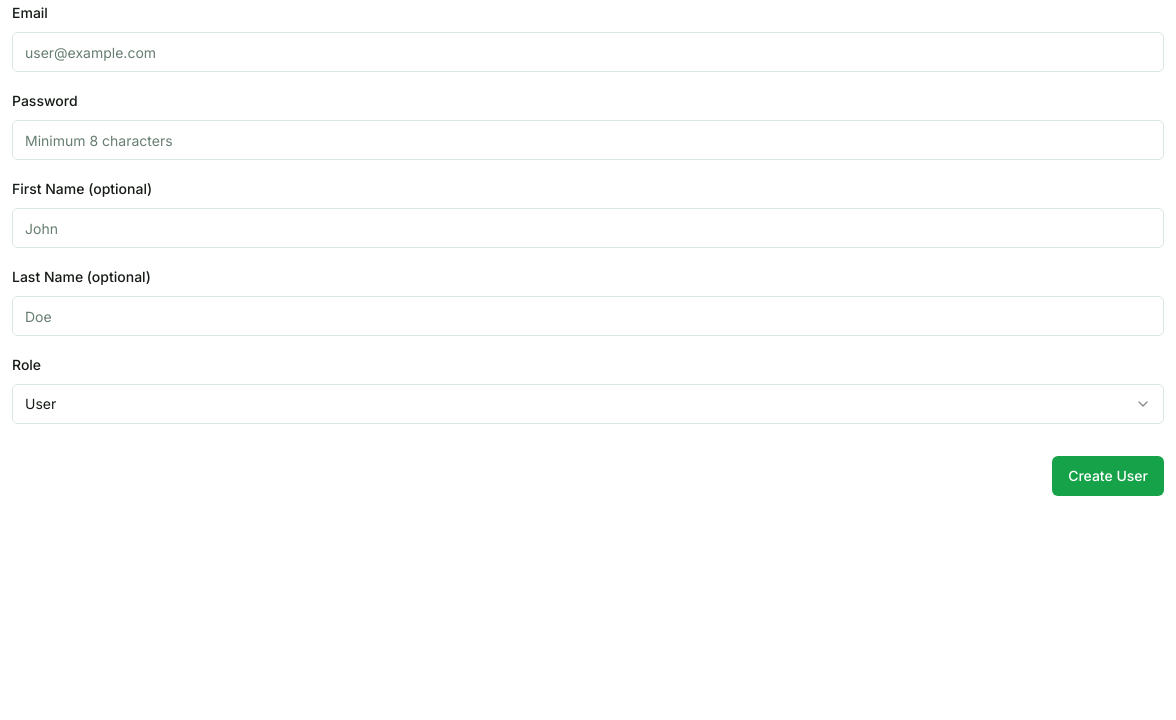
Scenario: UserForm › create mode: shows validation error for short password
Type "test@example.com" into the field with test id "user-email-input" at (588, 52), box [12,32,1164,72]
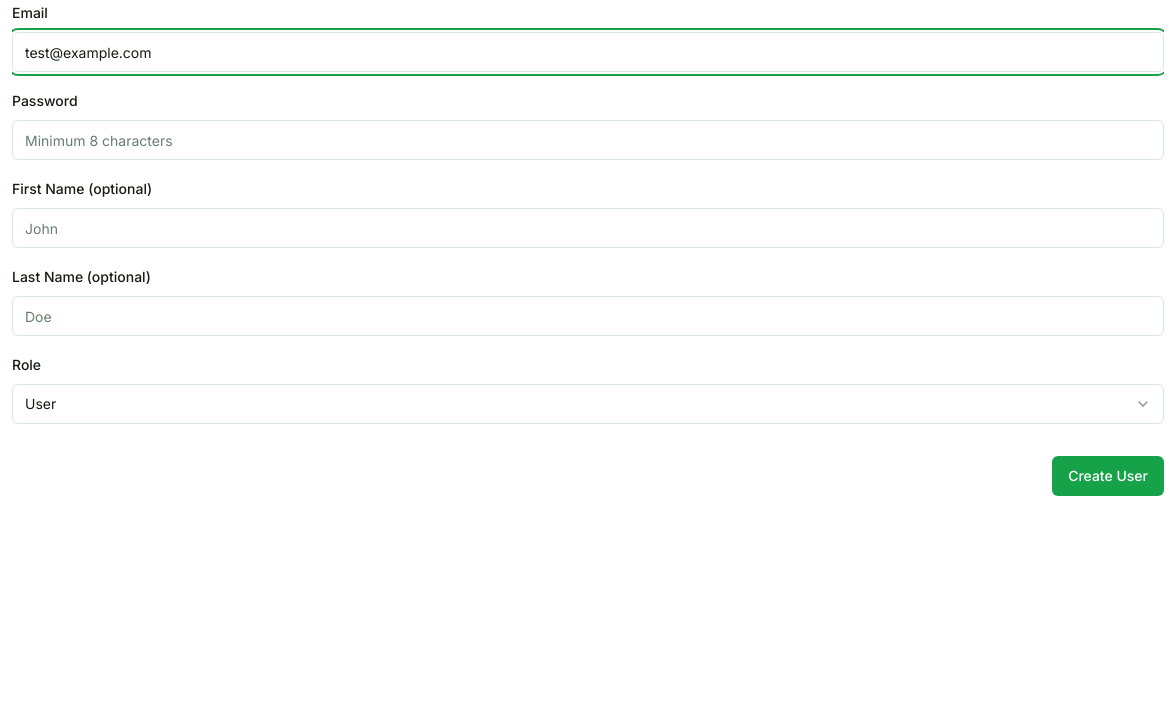
Type "short" into the password field with test id "user-password-input" at (588, 140), box [12,120,1164,160]
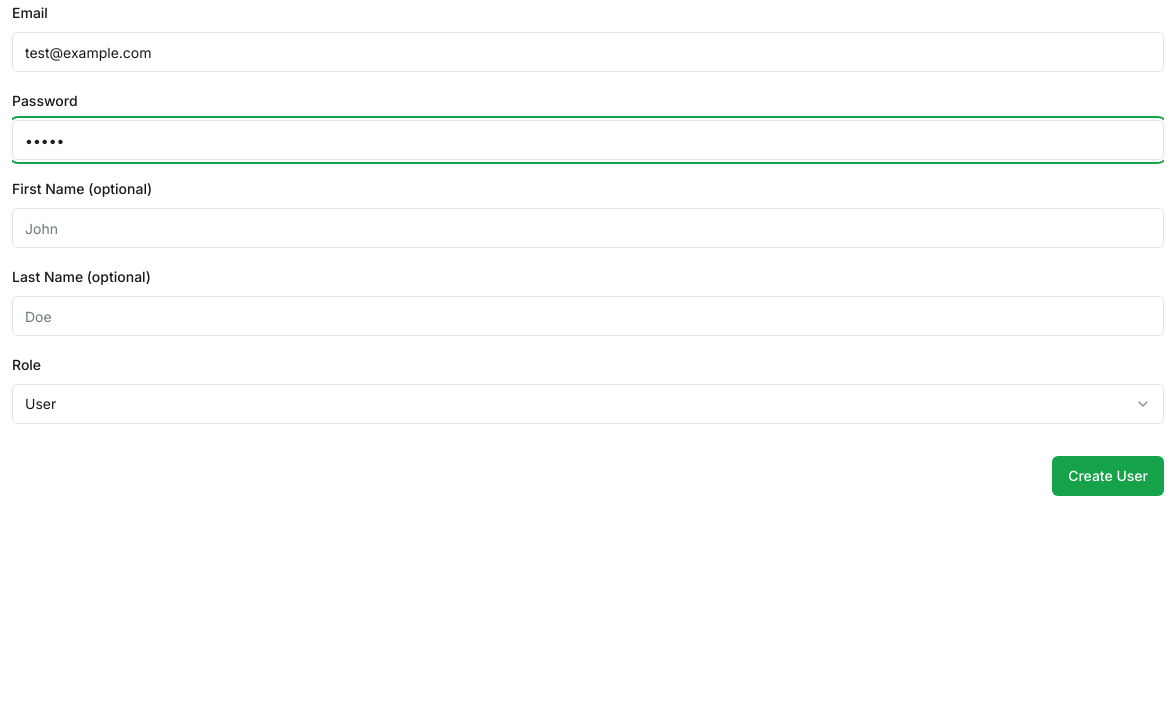
Click the button with test id "user-form-submit" at (1108, 476), box [1052,456,1164,496]
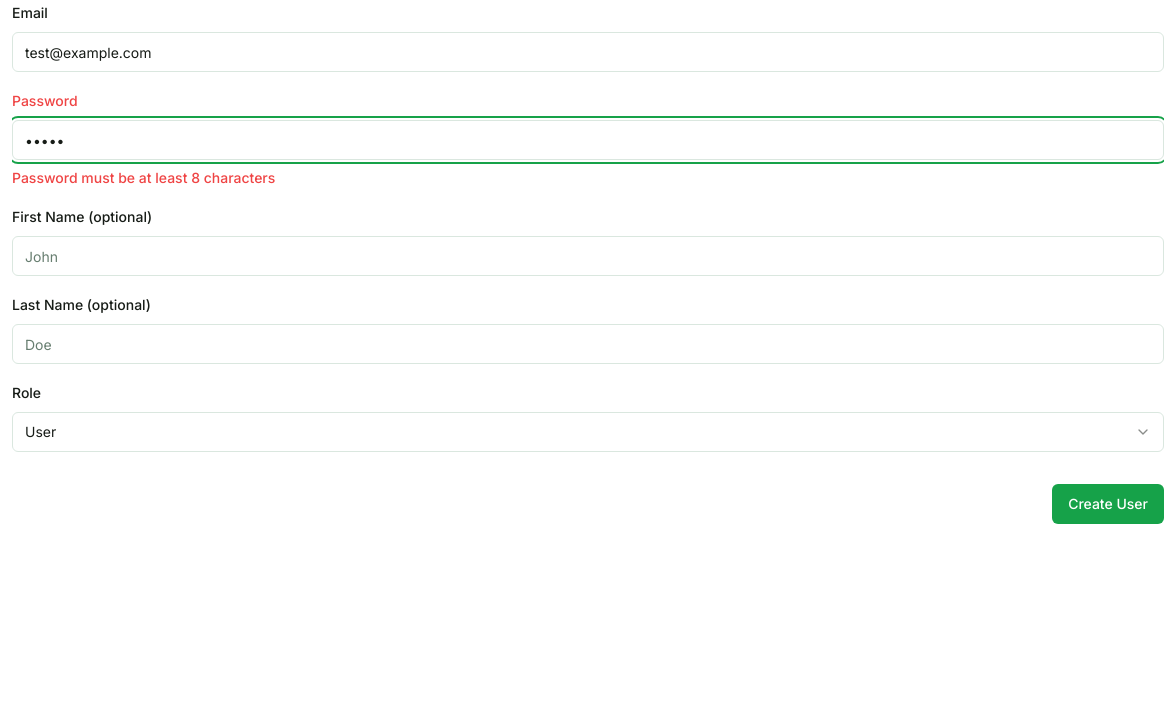
Check: the text "Password must be at least 8 characters" is shown, box [12,169,275,186]
